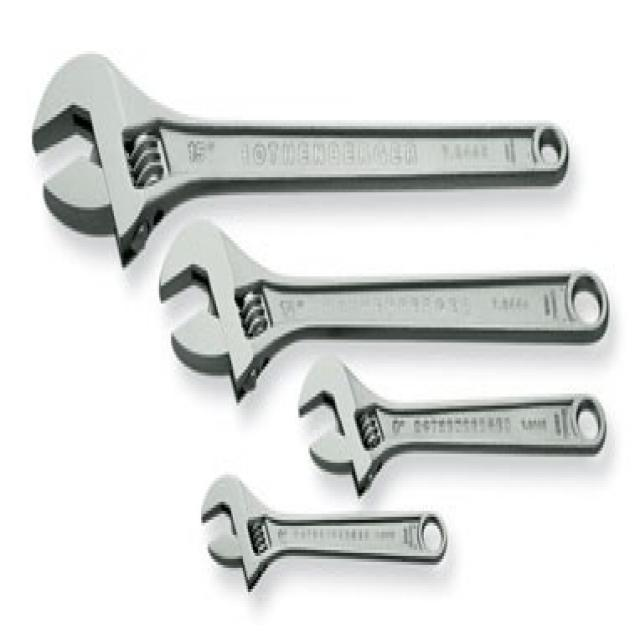wrench: (29, 44, 571, 256), (156, 220, 613, 393), (295, 350, 611, 504), (199, 470, 452, 594)
